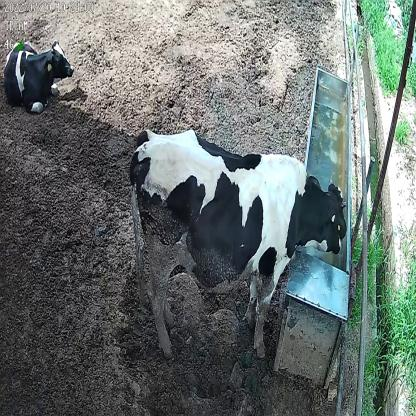cow: (128, 124, 350, 353), (3, 38, 74, 116)
